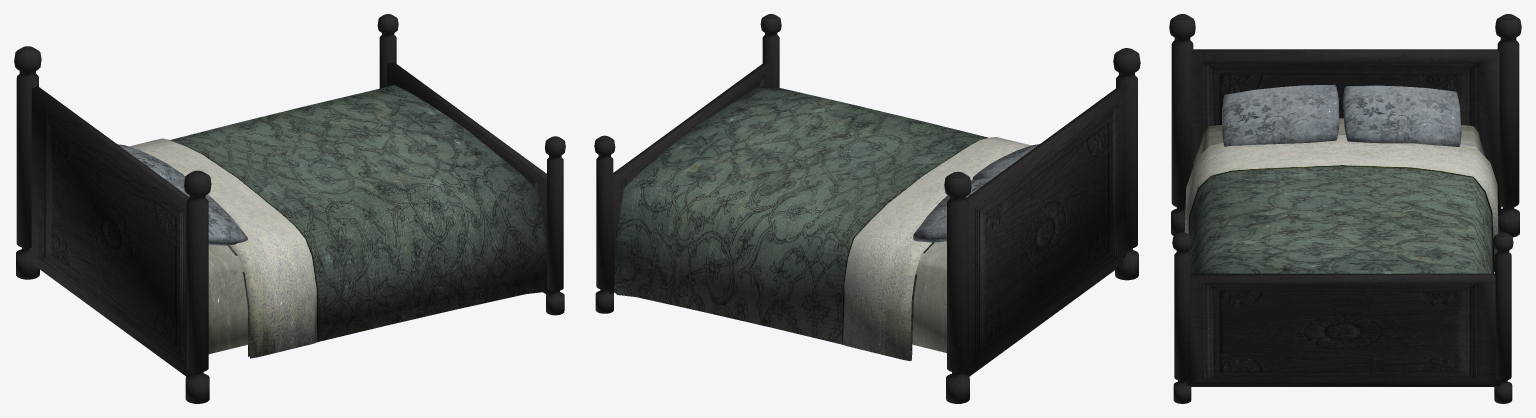
File: FPH_Bed.fbx
The picture shows the model from 3 angles, left to right: view 1: azimuth 30°, elevation 25°; view 2: azimuth 150°, elevation 25°; view 3: azimuth 270°, elevation 25°; orthographic projection. The views are drawn at different scales.
Visible parts, largest first — view 1: FPH_Bed; view 2: FPH_Bed; view 3: FPH_Bed.
Part boxes in pixels (bbox=[...]): FPH_Bed: bbox=[14, 14, 565, 403]; FPH_Bed: bbox=[594, 14, 1140, 403]; FPH_Bed: bbox=[1169, 14, 1521, 403].
Bounding box in the file's own units: 10.75 × 6.12 × 9.04.
1 material, 1 textured.
